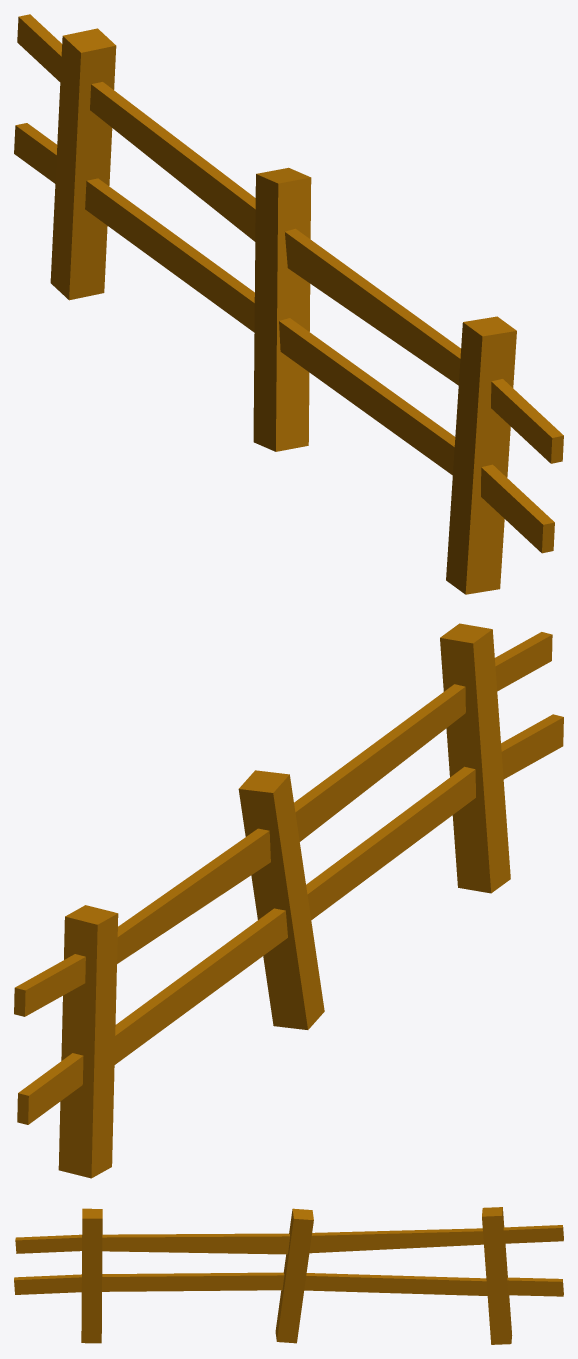
The model's file is fence02.glb.
3 views of the same model, one above another, from view 1: azimuth 30°, elevation 25°; view 2: azimuth 150°, elevation 25°; view 3: azimuth 270°, elevation 25° (orthographic). The views are drawn at different scales.
Visible parts, largest first — view 1: Cube; view 2: Cube; view 3: Cube.
Boxes of the visible parts, x1,y1,x2,y2 form: Cube: [14, 14, 563, 594]; Cube: [14, 623, 563, 1178]; Cube: [14, 1207, 563, 1344].
Bounding box in the file's own units: 0.9758 × 4.3 × 16.29.
